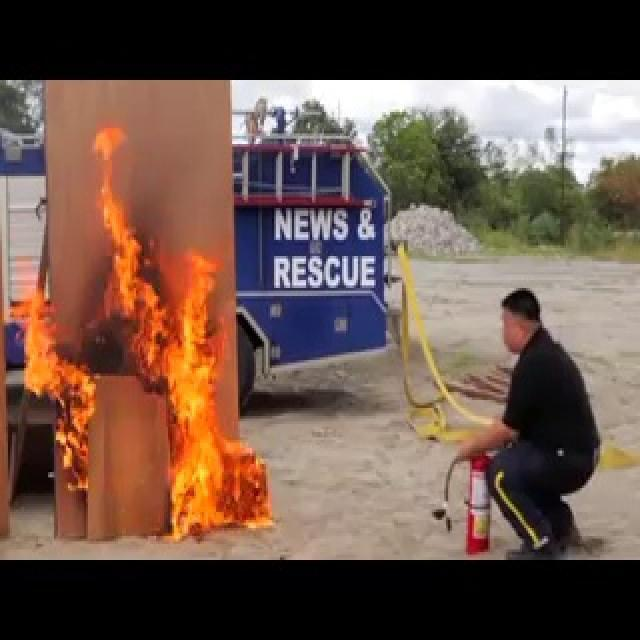Fire: (11, 112, 281, 540)
